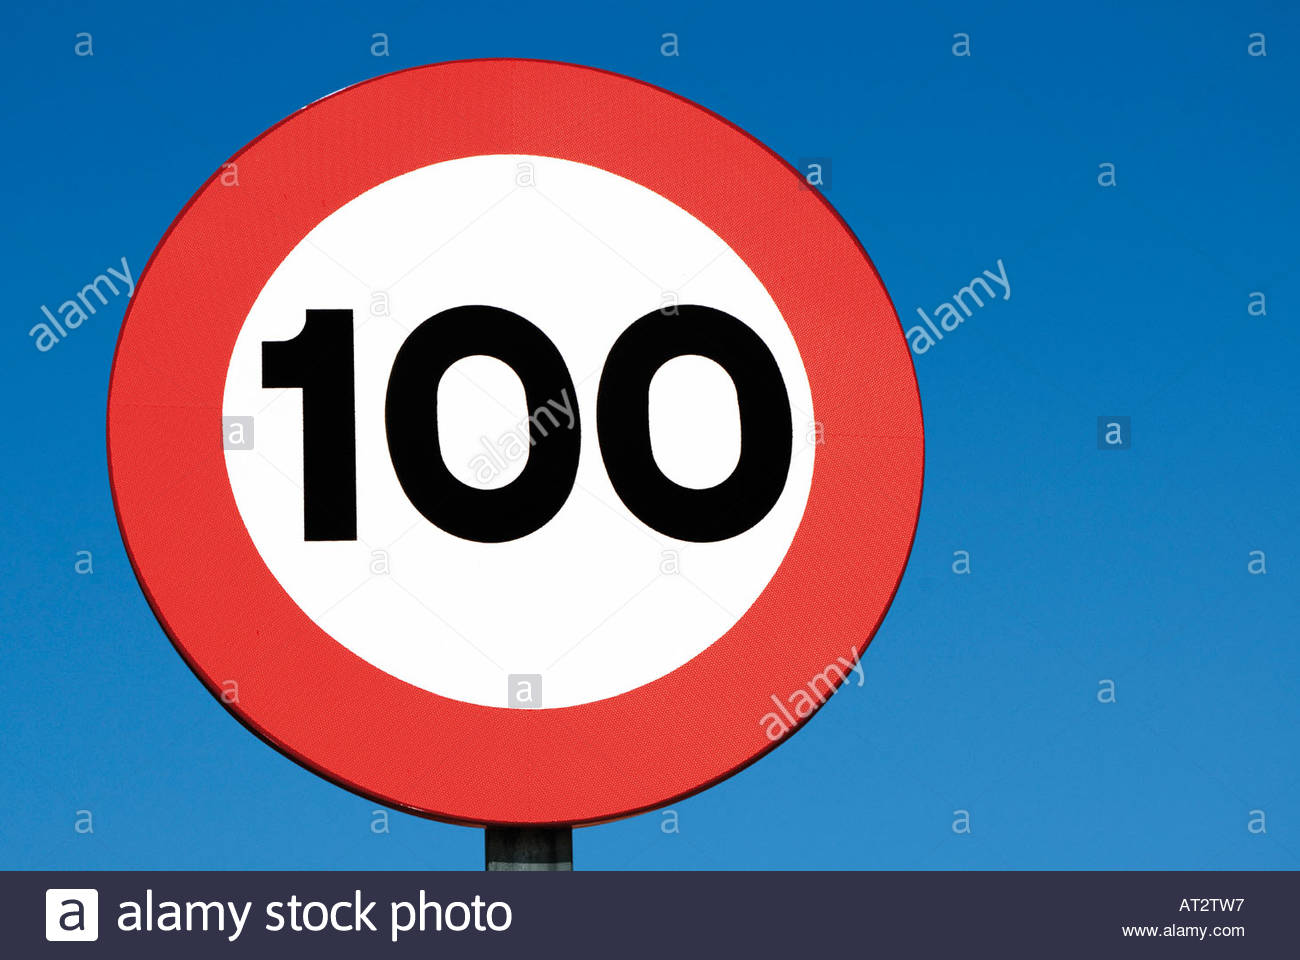Speed_limit_100km: (101, 56, 928, 826)
